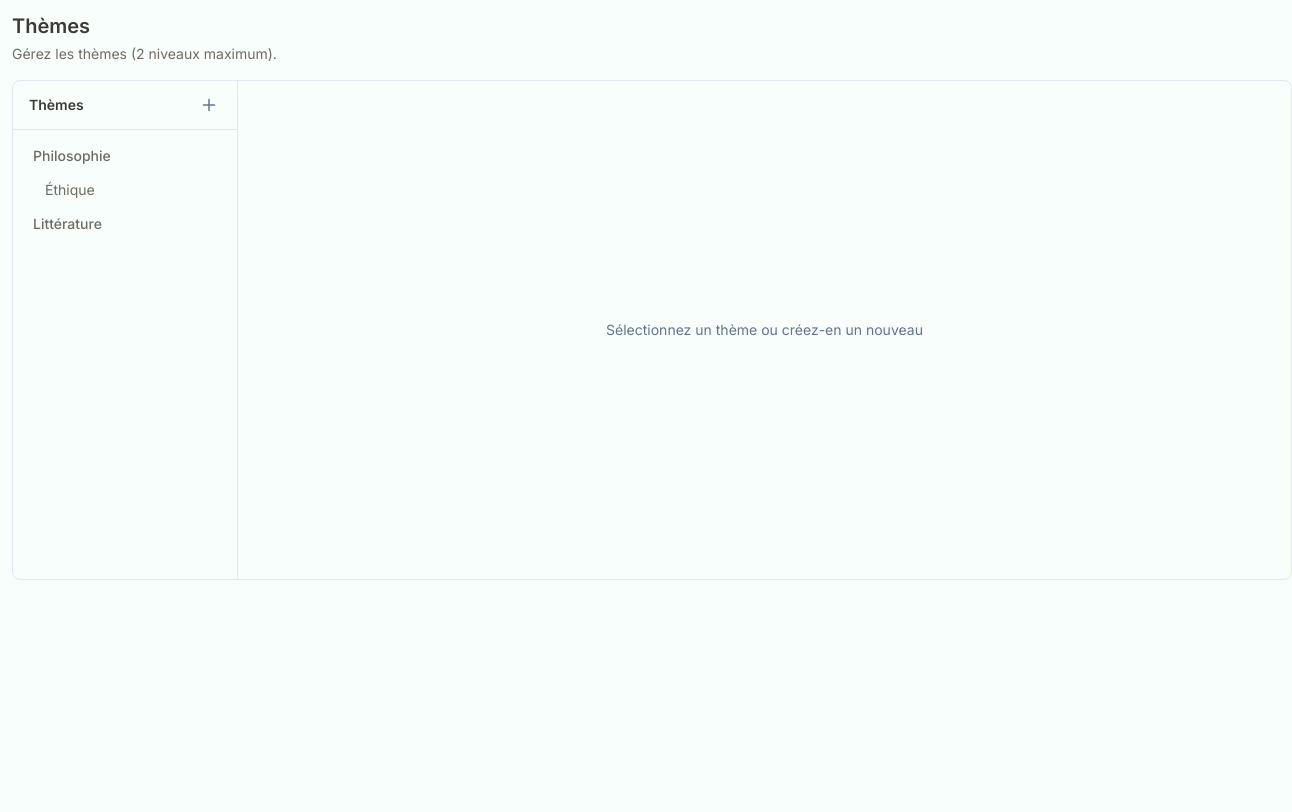
Scenario: ThemesPage › affiche une erreur si le nom est vide
This screenshot has width=1292, height=812.
Click the button named "Créer un nouveau thème" at (209, 105), box left=197, top=93, right=221, bottom=117
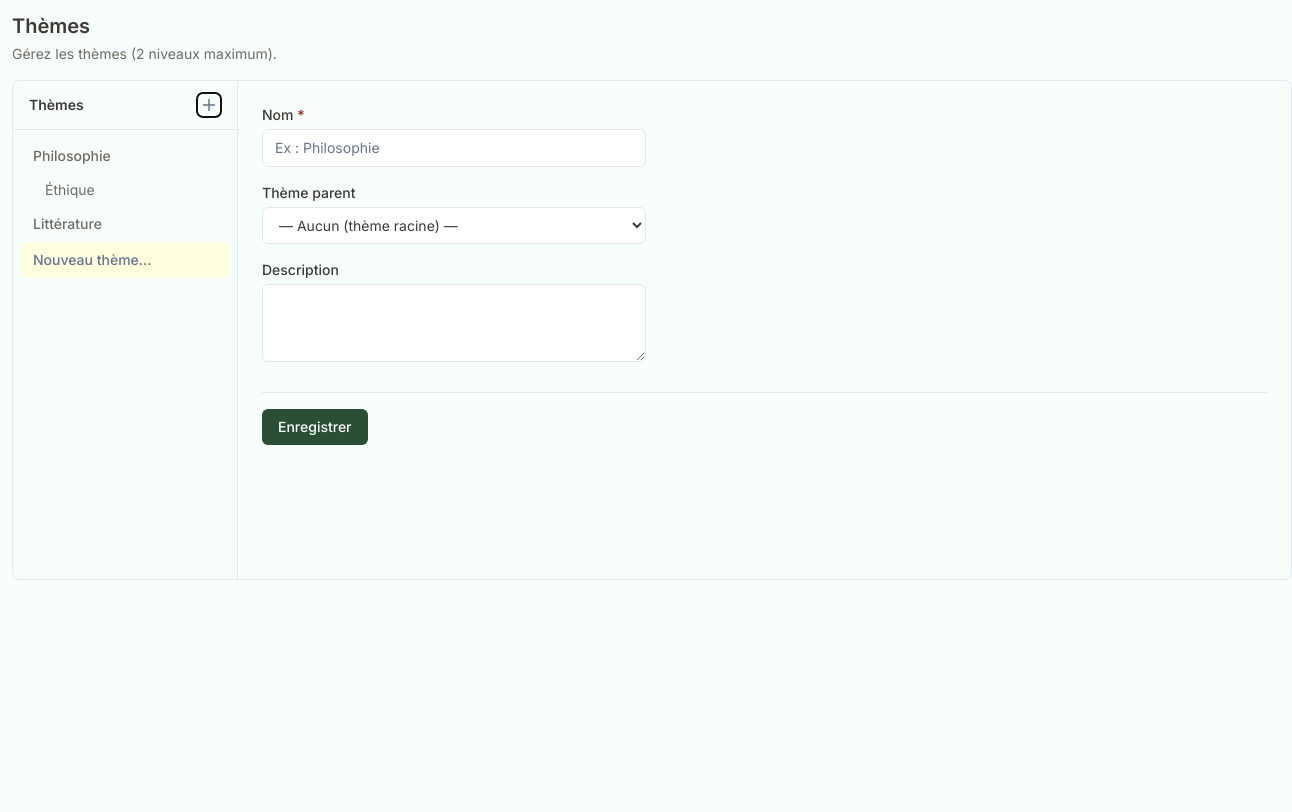
Click the button "Enregistrer" at (315, 427), box left=262, top=409, right=368, bottom=445
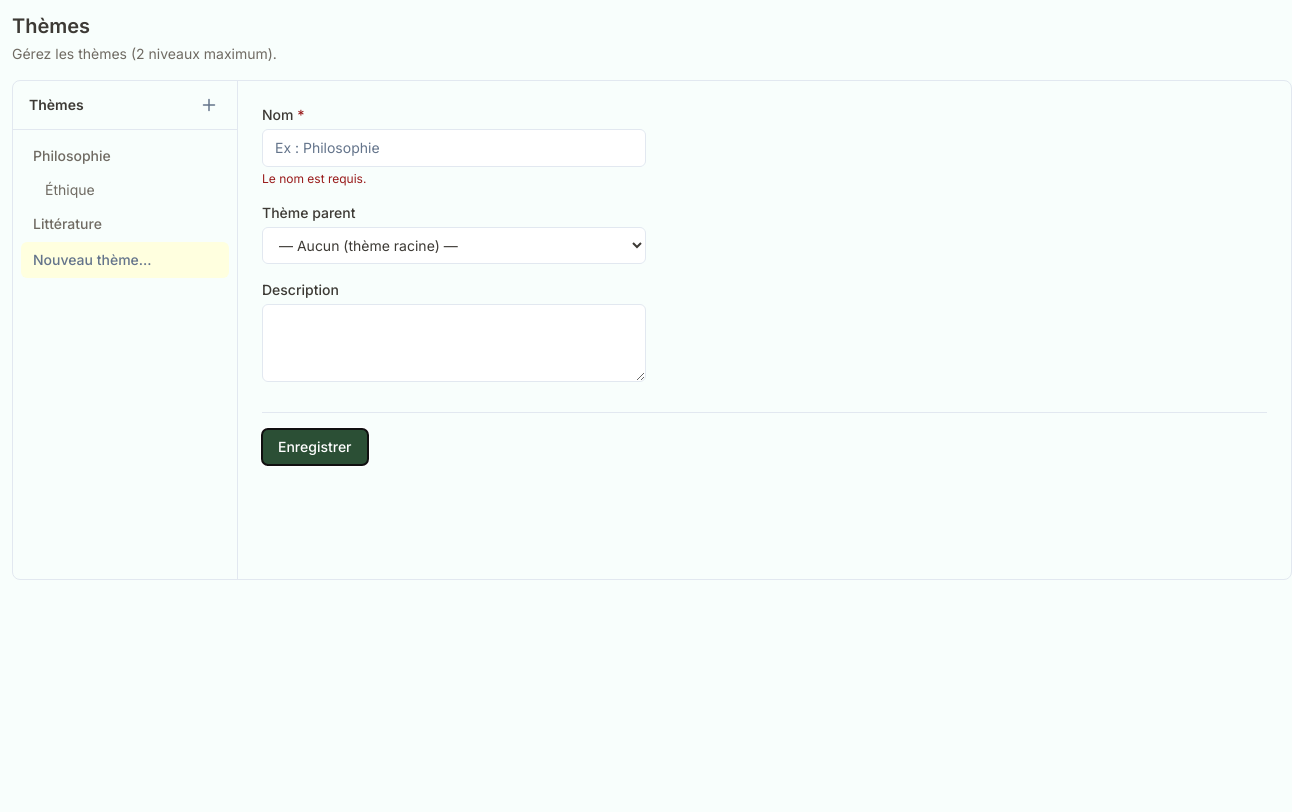
Result: the text "Le nom est requis." is shown at left=262, top=171, right=366, bottom=186
